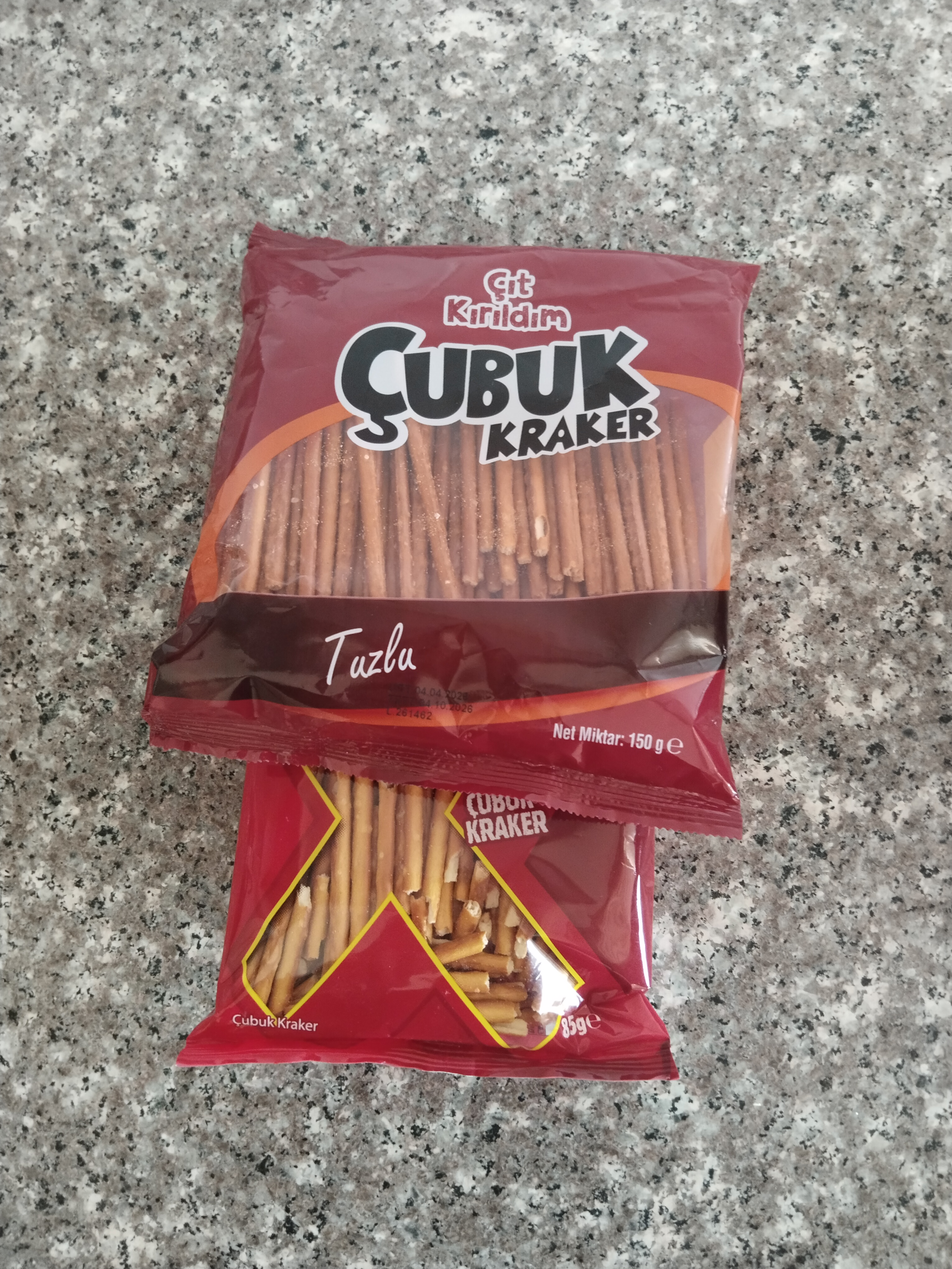citkirildim_cubuk_kraker: (147, 224, 753, 829)
eti_crax_cubuk_kraker: (182, 773, 676, 1073)
